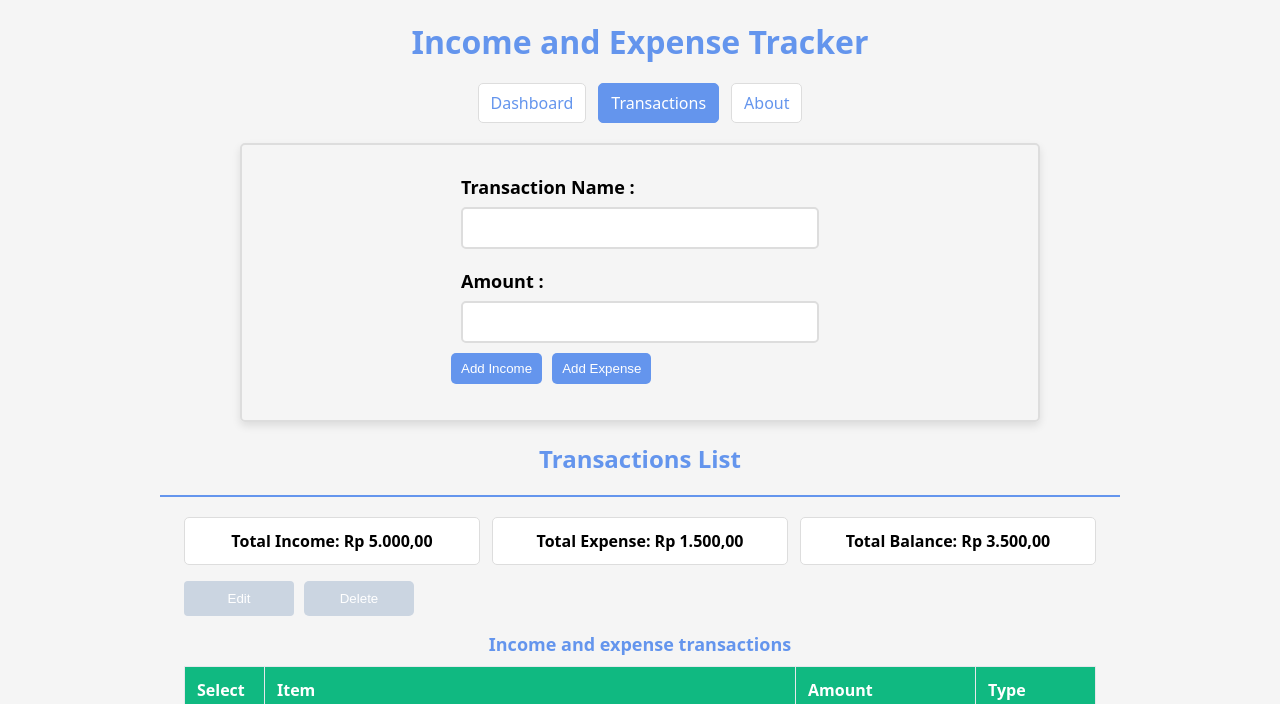
Test: shows an error banner and resets loading when adding income fails
The image size is (1280, 704).
In the field labelled "Transaction Name :": (640, 228) [461, 207, 819, 249], type "Bonus"
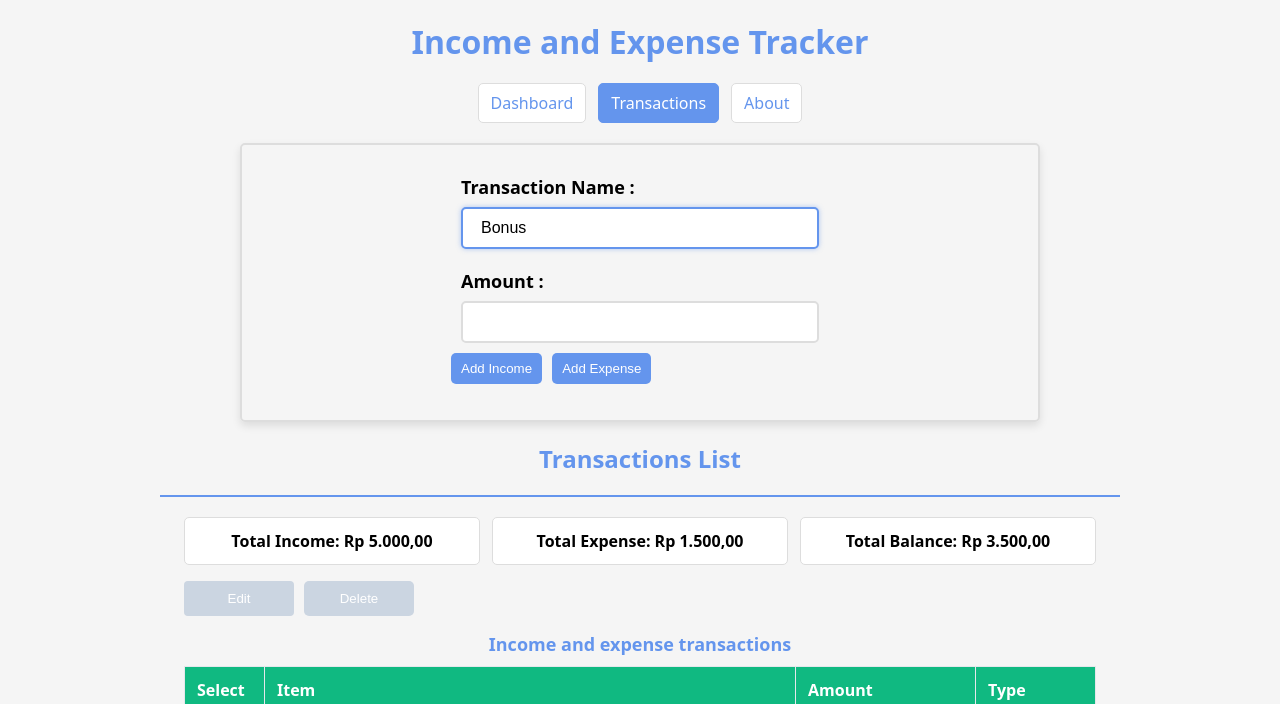
In the number field labelled "Amount :": (640, 322) [461, 301, 819, 343], type "1000"
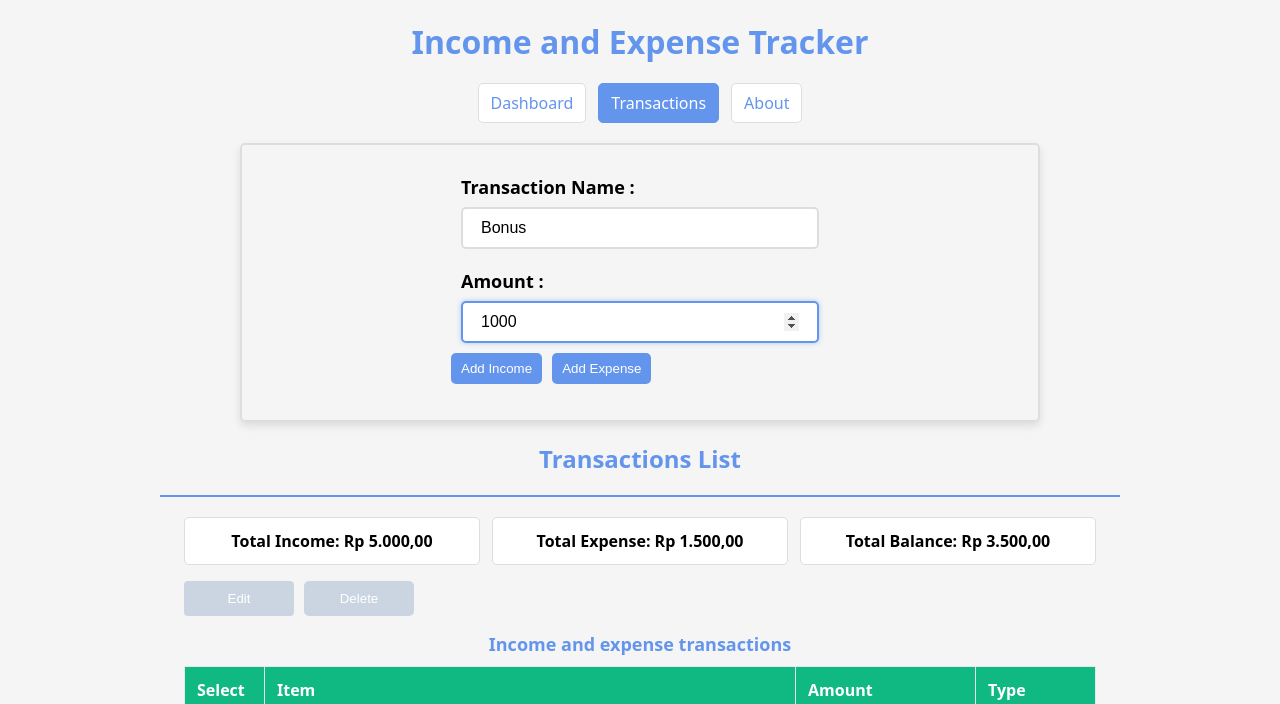
Click the button "Add Income": (497, 368) [451, 353, 542, 384]
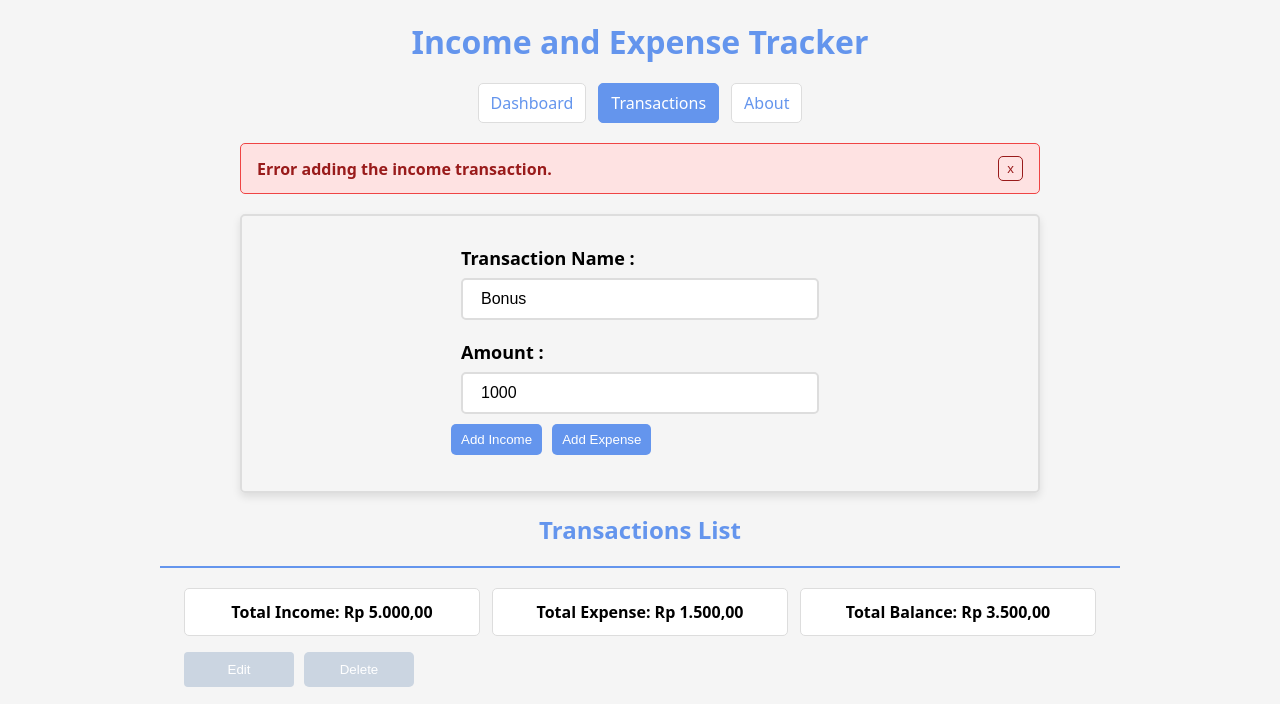
expect the button "Add Income" is enabled: met, box [451, 424, 542, 455]
expect the text "Error adding the income transaction." is shown: met, box [257, 158, 552, 180]
expect the message "Error adding the income transaction. x" is shown: met, box [240, 143, 1040, 194]
